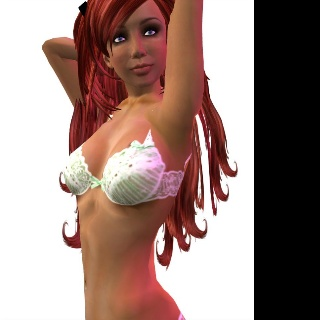without_mask: (109, 0, 167, 87)
